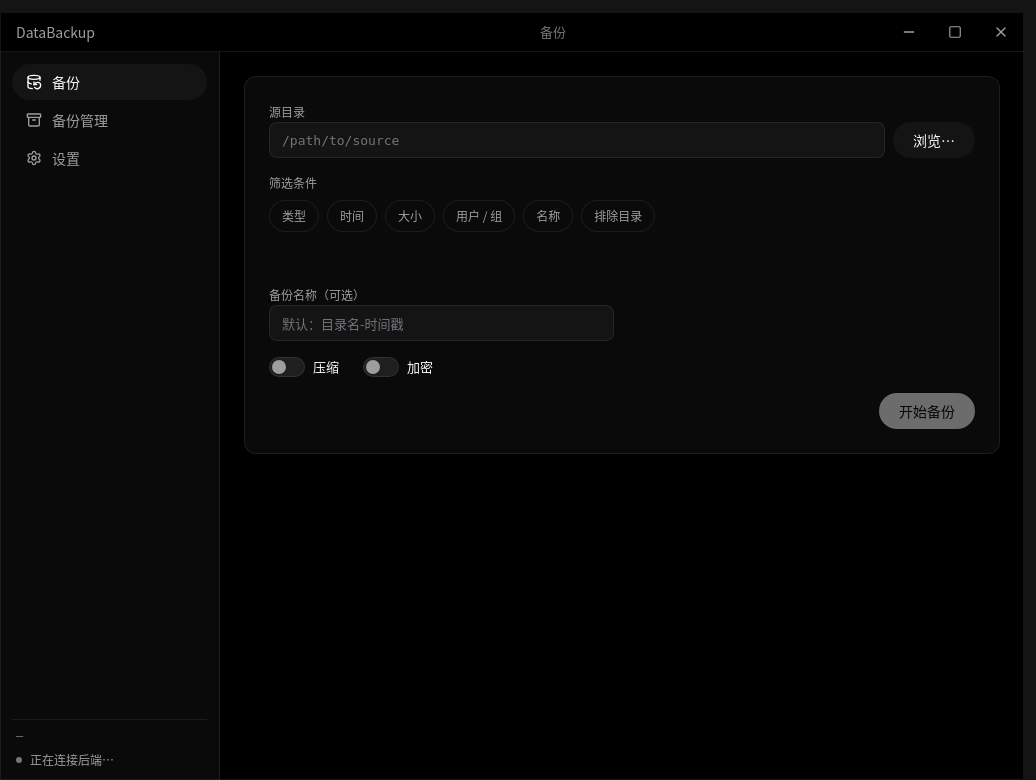
Scenario: App › switches pages via the sidebar
The image size is (1036, 780).
What coordinates should you click on to do the following:
click the button "设置"
I would click on:
 (110, 158)
Its box is x1=12 y1=140 x2=207 y2=176.
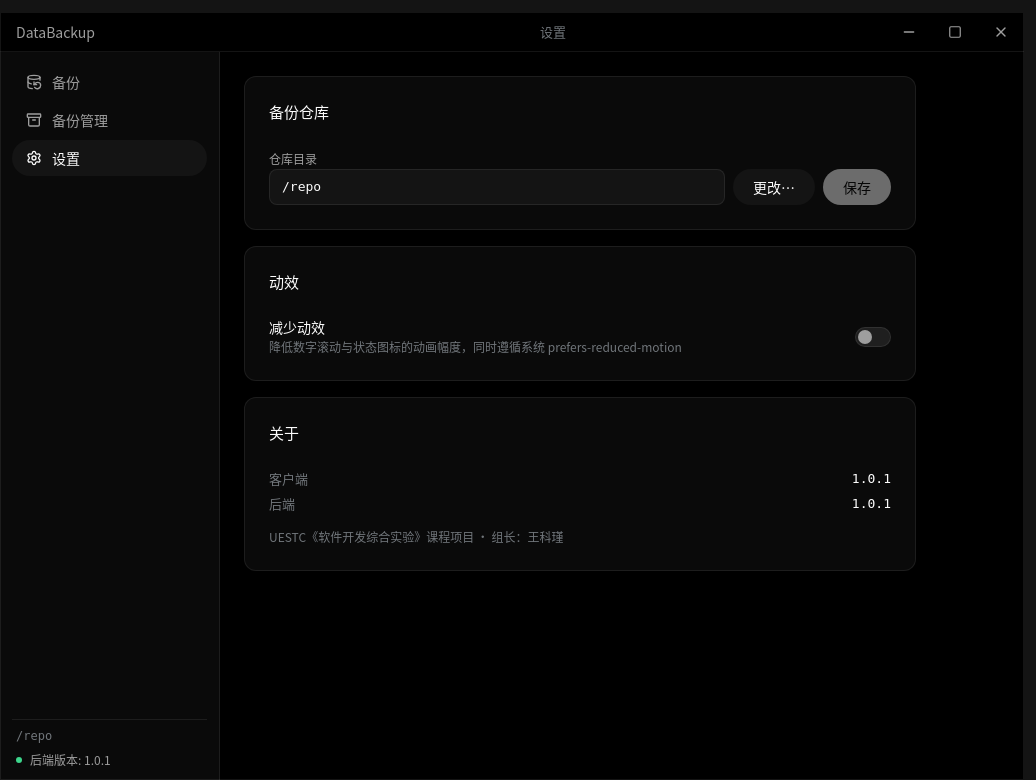
Expected: the switch named "减少动效" is shown, x1=855 y1=326 x2=891 y2=346
